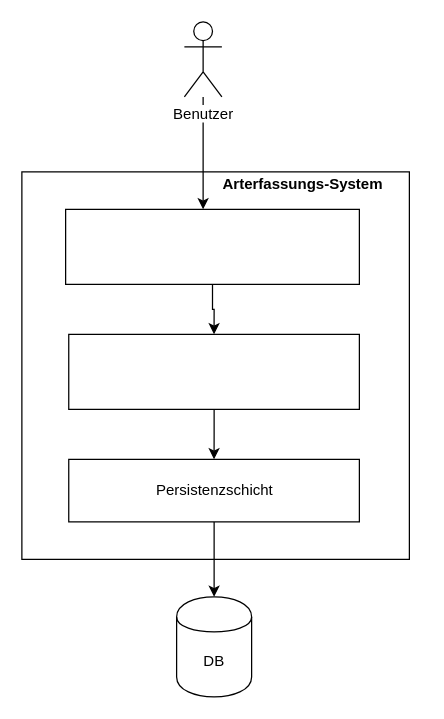
The diagram is 444 pixels wide and 719 high, and some of its shapes have lost their labels. The centre of each missing label's shape, as x and y in pixels:
"Benutzeroberfläche (Terminal)" goes at point (211, 246).
"Domänenschicht" goes at point (213, 371).
